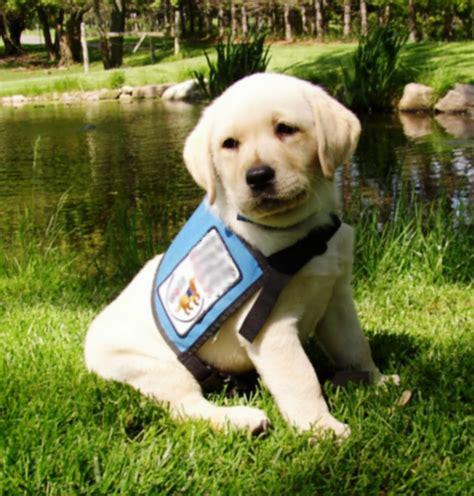dog: (85, 72, 385, 433)
